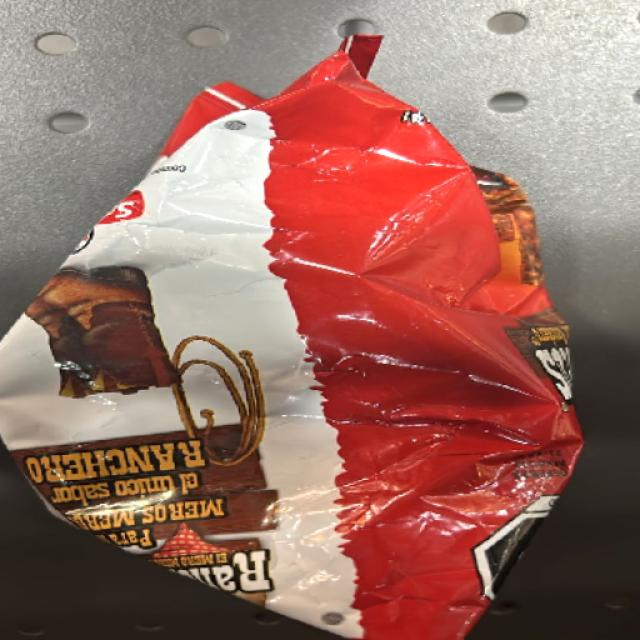rancheritos: (17, 130, 586, 590)
